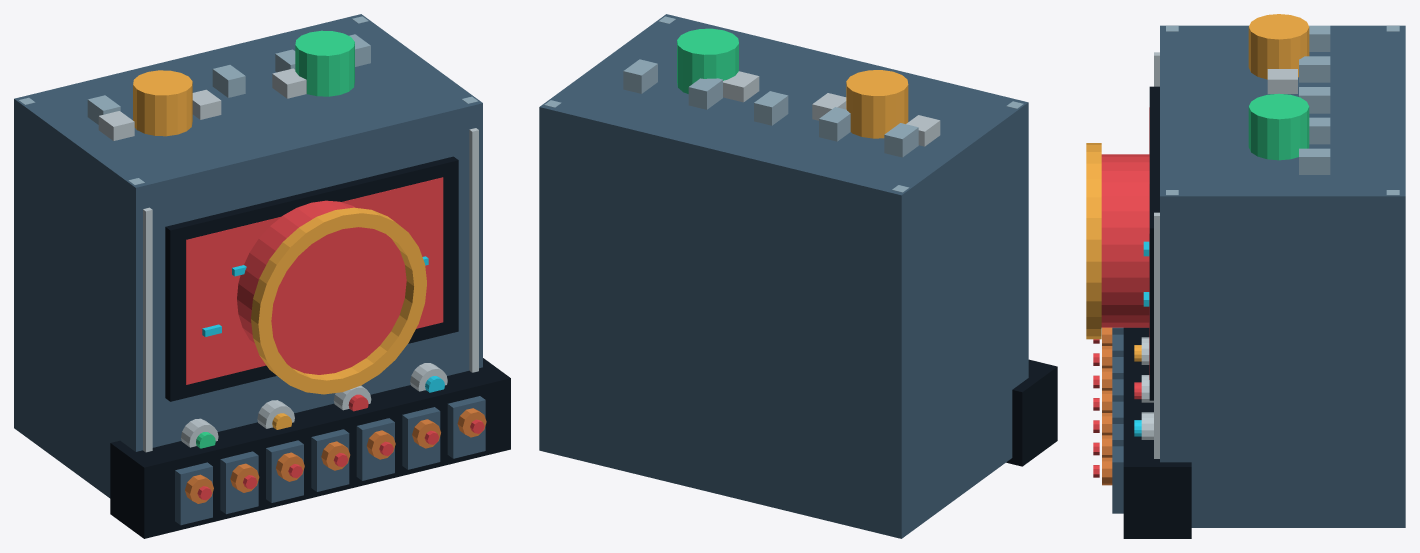
Rendered from 41_L74_LithographyEmergencySafetyStation.fbx.
The picture shows the model from 3 angles, left to right: view 1: azimuth 30°, elevation 25°; view 2: azimuth 150°, elevation 25°; view 3: azimuth 270°, elevation 25°; orthographic projection. The views are drawn at different scales.
Visible parts, largest first — view 1: LithographyEmergencySafetyStation, LithographyEmergencySafetyStation_Part_0060, LithographyEmergencySafetyStation_Part_0061; view 2: LithographyEmergencySafetyStation; view 3: LithographyEmergencySafetyStation, LithographyEmergencySafetyStation_Part_0060, LithographyEmergencySafetyStation_Part_0061.
Part boxes in pixels (x1=…): LithographyEmergencySafetyStation: x1=14, y1=14, x2=510, y2=538; LithographyEmergencySafetyStation_Part_0060: x1=237, y1=200, x2=406, y2=374; LithographyEmergencySafetyStation_Part_0061: x1=251, y1=207, x2=426, y2=394; LithographyEmergencySafetyStation: x1=539, y1=14, x2=1057, y2=538; LithographyEmergencySafetyStation: x1=1093, y1=14, x2=1405, y2=538; LithographyEmergencySafetyStation_Part_0060: x1=1101, y1=154, x2=1149, y2=327; LithographyEmergencySafetyStation_Part_0061: x1=1086, y1=143, x2=1101, y2=339.
Size of the model in its own units: 113 by 111 by 84.5.
